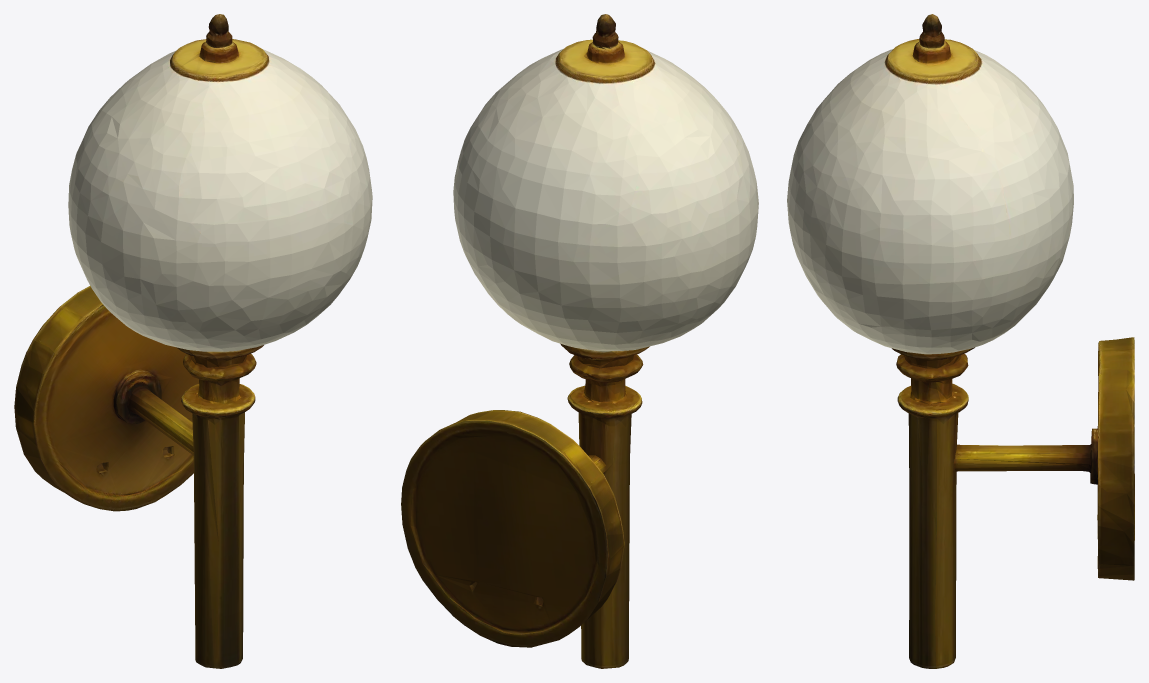
The model's file is lamp_wall_globe_white.glb.
3 renders of one model, left to right at view 1: azimuth 30°, elevation 25°; view 2: azimuth 150°, elevation 25°; view 3: azimuth 270°, elevation 25°, orthographic.
Parts seen in each view (by area): view 1: geometry_0; view 2: geometry_0; view 3: geometry_0.
Part boxes in pixels (x1,y1,x2,y2): geometry_0: (14,14,372,668); geometry_0: (401,14,758,668); geometry_0: (787,14,1134,668).
Size of the model in its own units: 0.4349 by 1 by 0.4895.
1 material, 1 textured.
